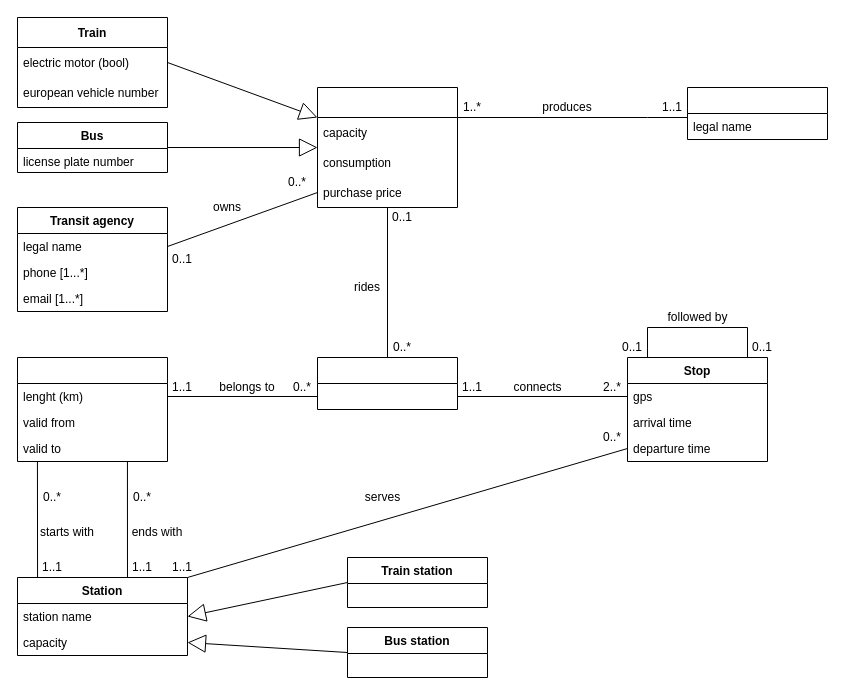
Image size: 845x695. Some labels were removed from this diagram. Each missing label, with the box of its shape:
Connection: (316, 356, 458, 410)
Producer: (686, 86, 828, 140)
Transit route: (16, 356, 168, 462)
Vehicle: (316, 86, 458, 208)
